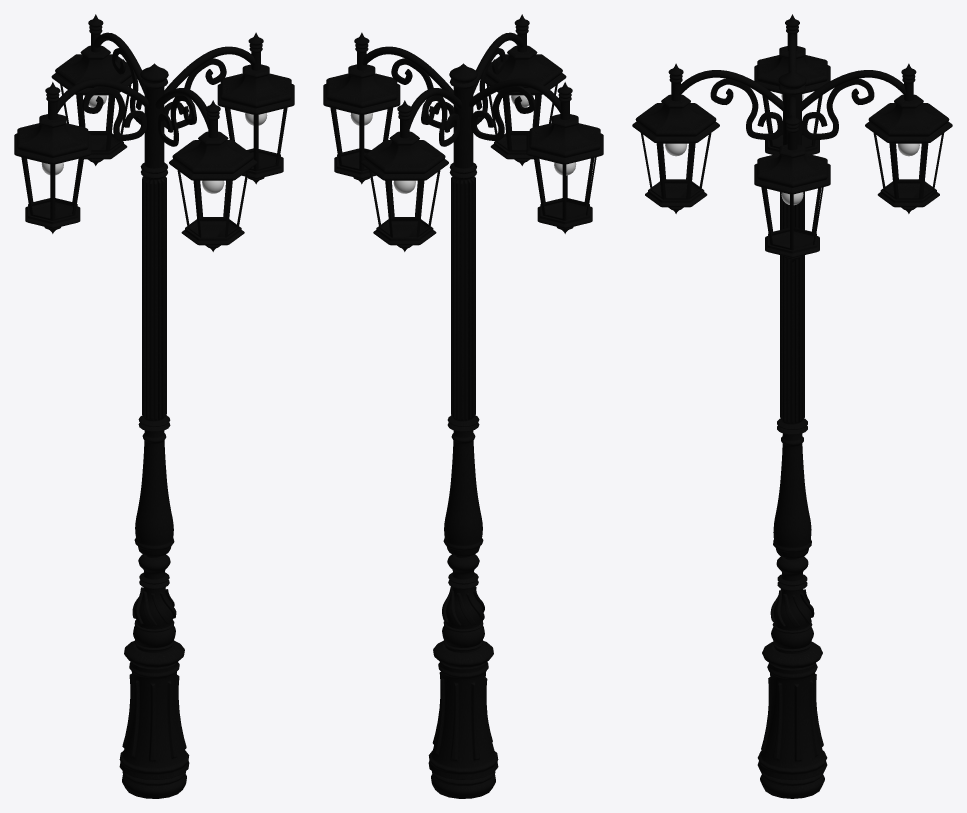
The model's file is post_quad_classic.fbx.
The picture shows the model from 3 angles, left to right: view 1: azimuth 30°, elevation 25°; view 2: azimuth 150°, elevation 25°; view 3: azimuth 270°, elevation 25°; orthographic projection.
Parts seen in each view (by area): view 1: classic quad light pole 001; view 2: classic quad light pole 001; view 3: classic quad light pole 001.
Part boxes in pixels (left/top/right/bottom): classic quad light pole 001: left=14, top=14, right=294, bottom=798; classic quad light pole 001: left=323, top=14, right=603, bottom=798; classic quad light pole 001: left=632, top=14, right=952, bottom=798.
Size of the model in its own units: 165 by 412 by 165.
3 materials, 3 textured.
